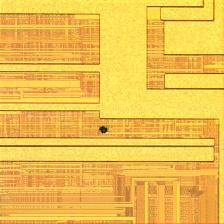PARTICLE: (98, 124, 110, 136)
